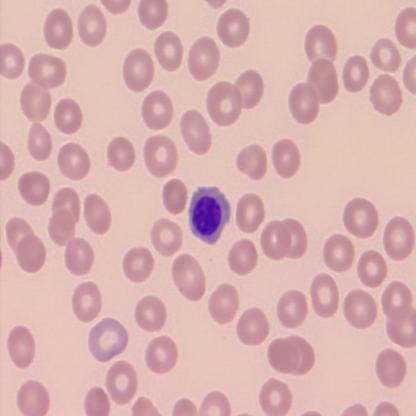NRC: (185, 185, 232, 246)
